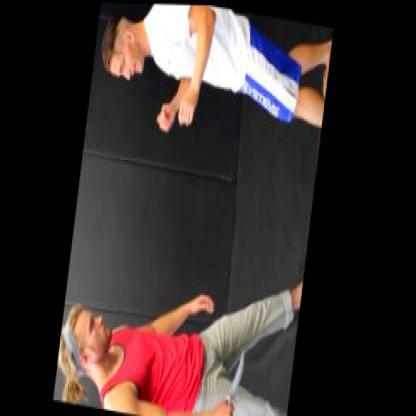knife: (221, 336, 258, 414)
